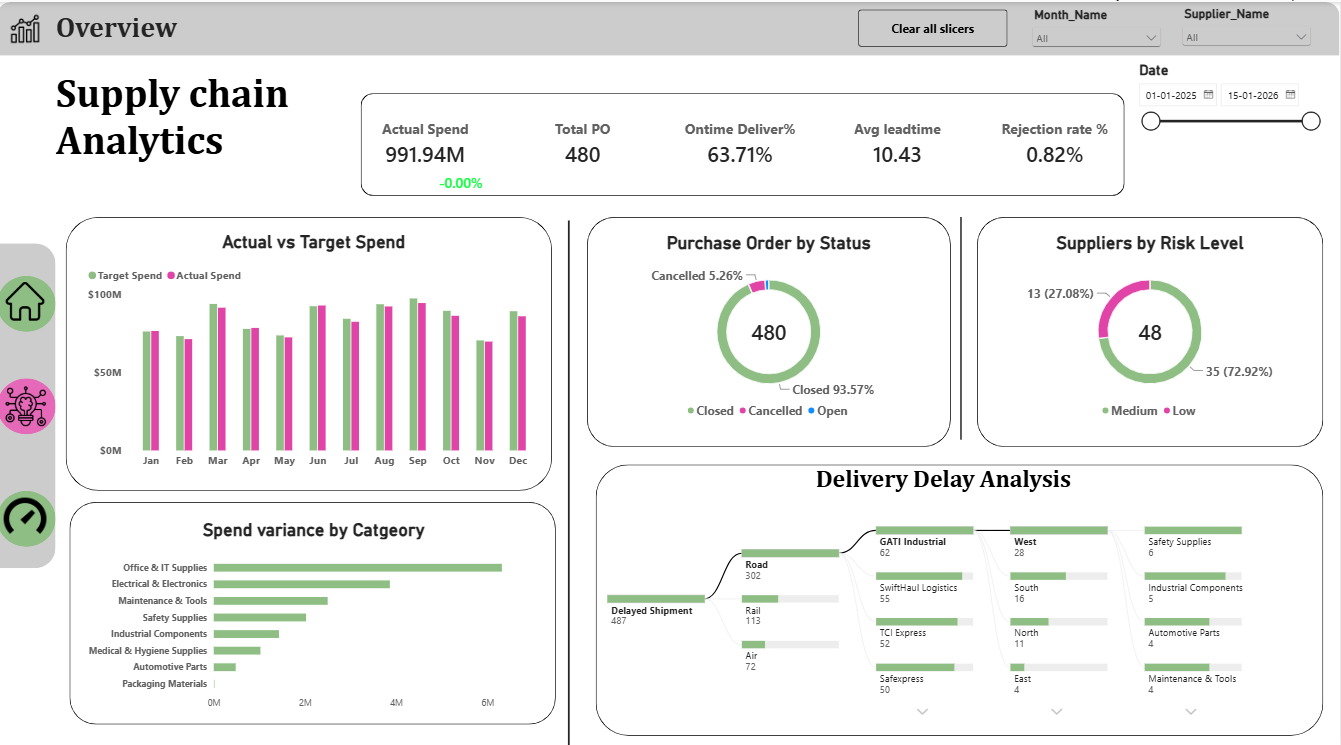

This screenshot's page, from the dashboard's own definition file:
{"tool":"powerbi","page":{"name":"Supply chain Analytics","canvas":[1800,1000],"ordinal":0},"visuals":[{"type":"shape","box":[0,0,1799.6,72.1],"z":0},{"type":"textbox","box":[78.8,11.7,194.4,48.6],"z":1000},{"type":"image","box":[18.4,0,38.5,72.1],"z":2000},{"type":"textbox","box":[78.8,90.5,536.2,152.5],"z":3000},{"type":"cardVisual","fields":{"Data":["_Measures.Actual Spend","_Measures.Total PO","_Measures.Ontime Delivershipments","_Measures.Avg leadtime","_Measures.Rejection rate %"]},"box":[472.5,139.1,1050.6,103.9],"z":4000},{"type":"clusteredColumnChart","title":"Actual vs Target Spend","fields":{"Y":["_Measures.Target Spend","_Measures.Actual Spend"],"Category":["Dim_date.Month_Name"]},"box":[104.9,293.2,638,351.9],"z":5000},{"type":"clusteredBarChart","title":"Spend variance by Catgeory","fields":{"Y":["_Measures.Spend variance"],"Category":["Dim_Category.Product_Category"]},"box":[104.9,678.9,638,289.7],"z":6000},{"type":"shape","box":[755.3,293.2,21.3,707.3],"z":7000},{"type":"donutChart","title":"Purchase Order by Status ","fields":{"Y":["_Measures.Total PO"],"Category":["Fact_Procurement.PO_Status"]},"box":[803.3,295,463.9,284.4],"z":8000},{"type":"donutChart","title":"Suppliers by Risk Level","fields":{"Y":["CountNonNull(Dim_Supplier.Supplier_ID)"],"Category":["Dim_Supplier.Risk_Level"]},"box":[1313.4,295,463.9,284.4],"z":9000},{"type":"decompositionTreeVisual","fields":{"Analyze":["_Measures.Delayed Shipment"],"ExplainBy":["Fact_Procurement.Transport_Mode","Dim_Carrier.Carrier_Name","Dim_Supplier.Region","Dim_Category.Product_Category"]},"box":[777.5,579.8,1022.1,420.6],"z":10000},{"type":"shape","box":[755.3,292.7,21.3,707.3],"z":11000},{"type":"shape","box":[1286.7,287.9,10.7,298.6],"z":12000},{"type":"shape","box":[776.7,586.5,1023.7,72.9],"z":13000},{"type":"textbox","box":[1098.3,620.3,467.5,50.3],"z":14000},{"type":"slicer","fields":{"Values":["Dim_date.Month_Name"]},"box":[1382.4,6.7,183.1,60.4],"z":15000},{"type":"cardVisual","fields":{"Data":["_Measures.Mom Var Spend"]},"box":[576.2,228.6,117.3,28.4],"z":16000},{"type":"slicer","fields":{"Values":["Dim_Supplier.Supplier_Name"]},"box":[1583.5,5,183.1,72.9],"z":17000},{"type":"slicer","fields":{"Values":["Dim_date.Date"]},"box":[1523.1,80,254.1,160],"z":18000},{"type":"shape","box":[0,323.4,78.8,435.7],"z":19000},{"type":"shape","box":[0,367,78.8,75.4],"z":20000},{"type":"shape","box":[0,504.4,78.8,75.4],"z":21000},{"type":"shape","box":[0,655.2,78.8,75.4],"z":22000},{"type":"image","box":[6.7,375.3,62,51.9],"z":23000},{"type":"image","box":[3.4,514.4,70.4,55.3],"z":24000},{"type":"image","box":[0,661.9,75.4,62],"z":25000},{"type":"shape","box":[92.2,288.2,651.8,367],"z":26000},{"type":"shape","box":[97.2,670.2,651.8,298.3],"z":27000},{"type":"shape","box":[790.9,288.2,487.6,308.3],"z":28000},{"type":"shape","box":[1313.7,288.2,464.1,308.3],"z":29000},{"type":"shape","box":[802.6,620,975.2,363.6],"z":30000},{"type":"shape","box":[487.6,122.3,1023.8,137.4],"z":31000},{"type":"actionButton","box":[1154.5,10.1,200,50],"z":32000}]}

Visuals, with their boxes on the page's 1800x1000 design canvas (x1, y1, x2, y2). These are canvas units, not pixel positions in the 1341x745 screenshot, which may show the page scaled, cropped or inside an application window:
shape: Rect(0, 0, 1800, 72)
textbox: Rect(79, 12, 273, 60)
image: Rect(18, 0, 57, 72)
textbox: Rect(79, 90, 615, 243)
cardVisual - _Measures.Actual Spend x _Measures.Total PO: Rect(472, 139, 1523, 243)
"Actual vs Target Spend" clusteredColumnChart: Rect(105, 293, 743, 645)
"Spend variance by Catgeory" clusteredBarChart: Rect(105, 679, 743, 969)
shape: Rect(755, 293, 777, 1000)
"Purchase Order by Status " donutChart: Rect(803, 295, 1267, 579)
"Suppliers by Risk Level" donutChart: Rect(1313, 295, 1777, 579)
decompositionTreeVisual - _Measures.Delayed Shipment x Fact_Procurement.Transport_Mode: Rect(778, 580, 1800, 1000)
shape: Rect(755, 293, 777, 1000)
shape: Rect(1287, 288, 1297, 586)
shape: Rect(777, 586, 1800, 659)
textbox: Rect(1098, 620, 1566, 671)
slicer - Dim_date.Month_Name: Rect(1382, 7, 1566, 67)
cardVisual - _Measures.Mom Var Spend: Rect(576, 229, 694, 257)
slicer - Dim_Supplier.Supplier_Name: Rect(1584, 5, 1767, 78)
slicer - Dim_date.Date: Rect(1523, 80, 1777, 240)
shape: Rect(0, 323, 79, 759)
shape: Rect(0, 367, 79, 442)
shape: Rect(0, 504, 79, 580)
shape: Rect(0, 655, 79, 731)
image: Rect(7, 375, 69, 427)
image: Rect(3, 514, 74, 570)
image: Rect(0, 662, 75, 724)
shape: Rect(92, 288, 744, 655)
shape: Rect(97, 670, 749, 968)
shape: Rect(791, 288, 1278, 596)
shape: Rect(1314, 288, 1778, 596)
shape: Rect(803, 620, 1778, 984)
shape: Rect(488, 122, 1511, 260)
actionButton: Rect(1154, 10, 1354, 60)
